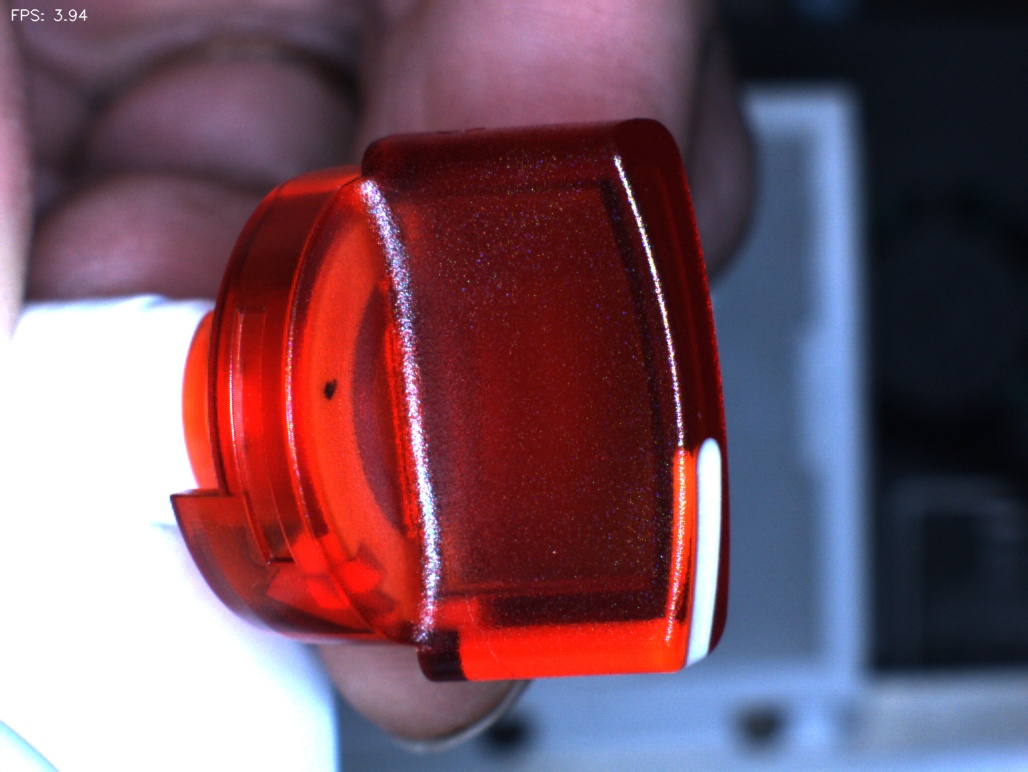PointNoir: (287, 341, 370, 429)
